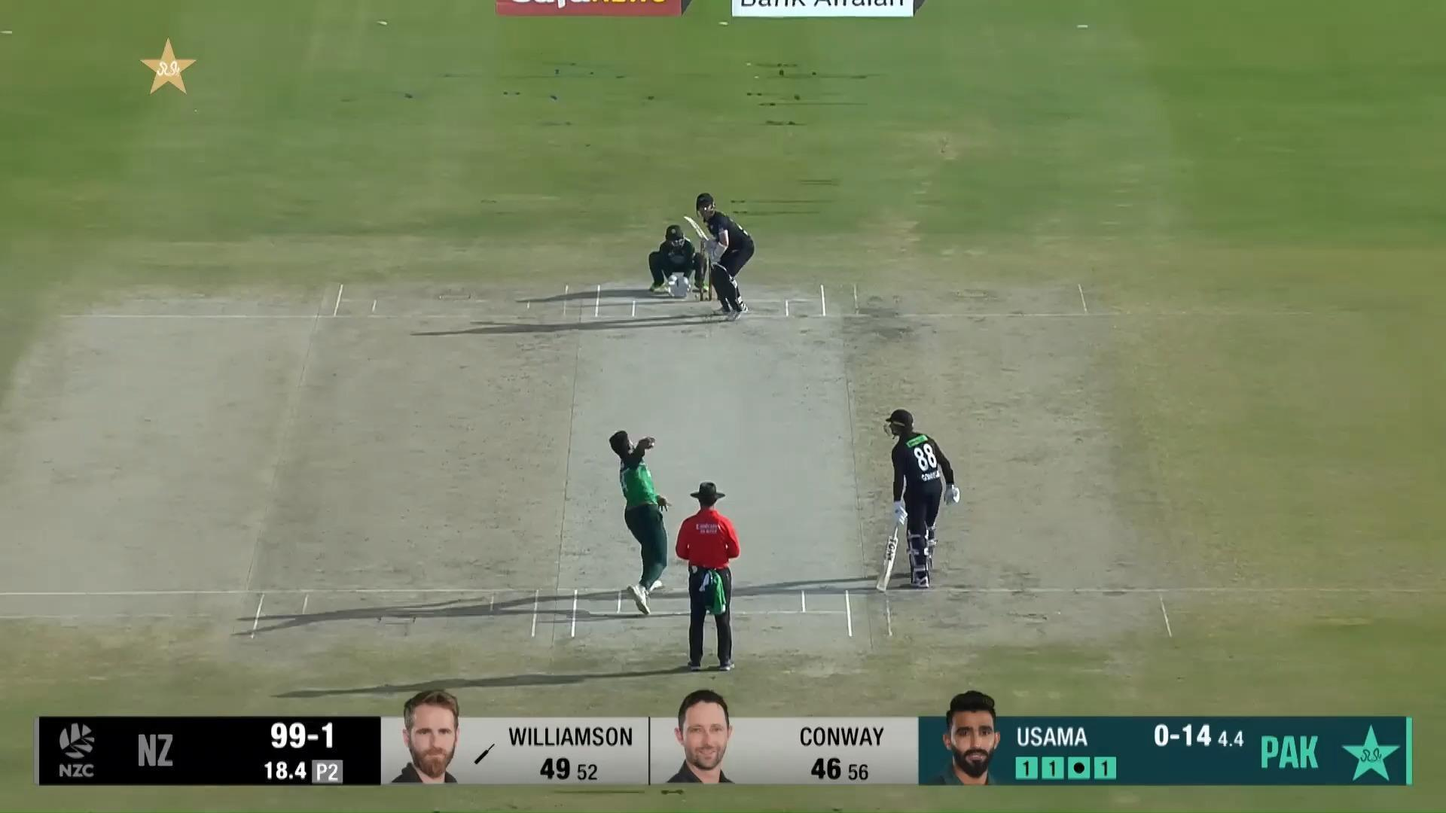BM 1: (683, 192, 755, 321)
BO: (608, 429, 673, 615)
